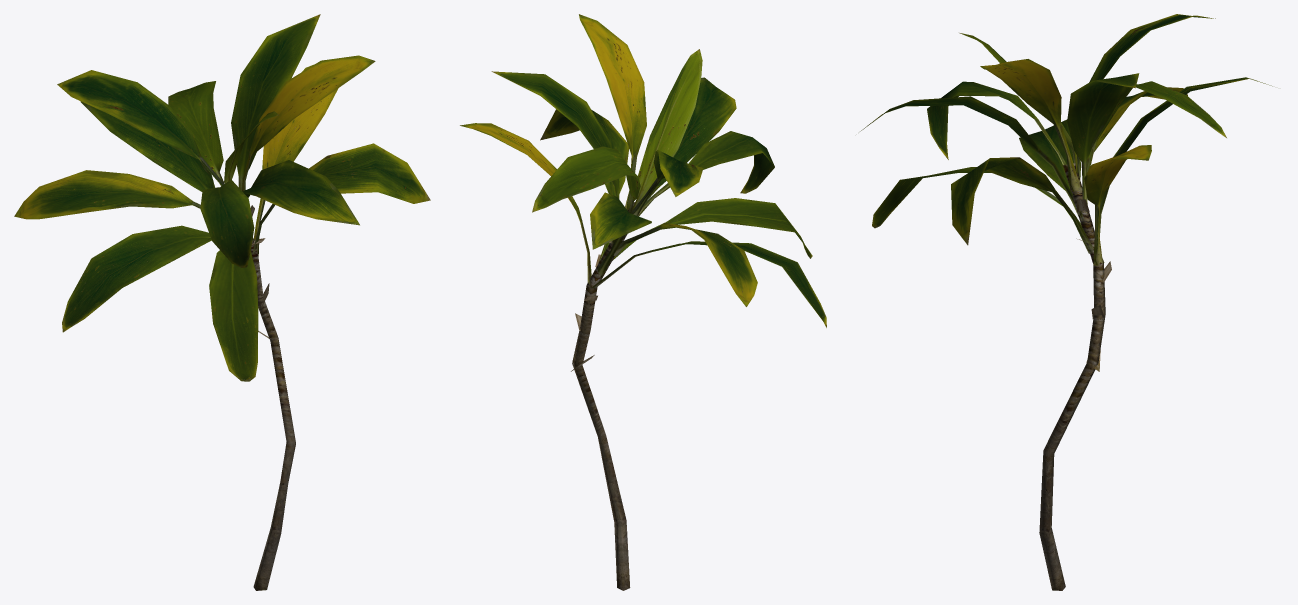
The model's file is background_plant_6.glb.
3 renders of one model, left to right at view 1: azimuth 30°, elevation 25°; view 2: azimuth 150°, elevation 25°; view 3: azimuth 270°, elevation 25°, orthographic. The views are drawn at different scales.
Visible parts, largest first — view 1: ye; view 2: ye; view 3: ye.
Boxes of the visible parts, bbox=[...] form: ye: bbox=[14, 14, 430, 590]; ye: bbox=[460, 14, 826, 590]; ye: bbox=[860, 14, 1272, 590].
Size of the model in its own units: 3.77 by 5.86 by 4.05.
Materials: 1 (1 with a texture image).
